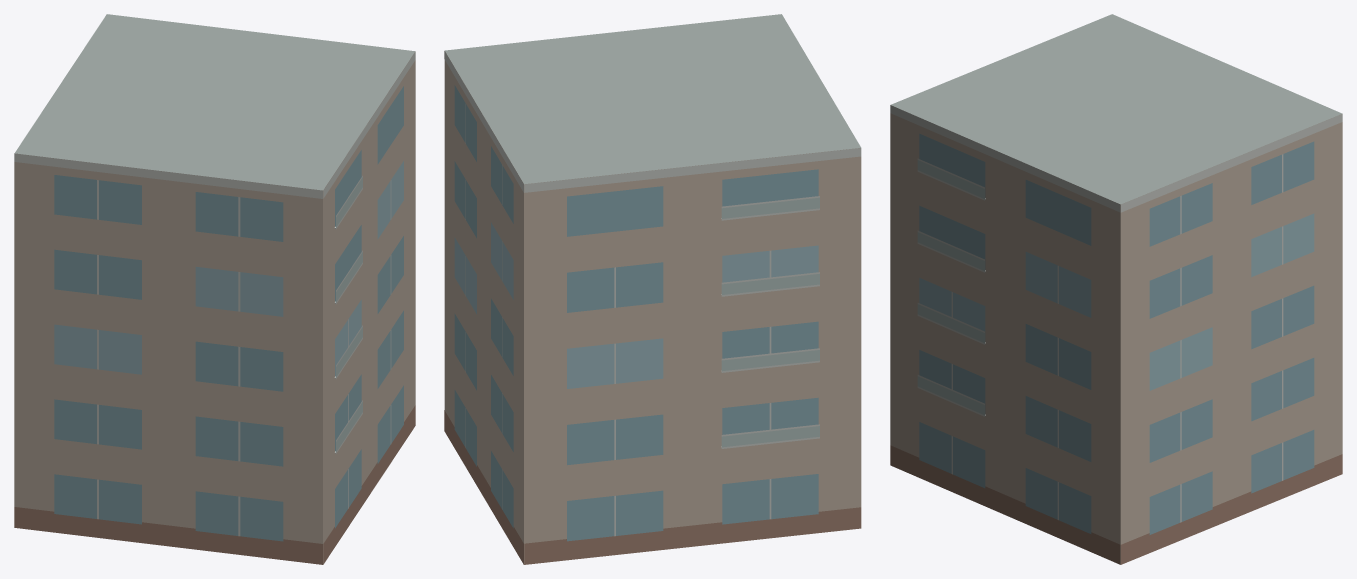
File: survey-upis-32686911.glb
3 views of the same model, side by side, from view 1: azimuth 30°, elevation 25°; view 2: azimuth 150°, elevation 25°; view 3: azimuth 270°, elevation 25° (orthographic). The views are drawn at different scales.
Parts seen in each view (by area): view 1: survey-upis-32686911.tmp; view 2: survey-upis-32686911.tmp; view 3: survey-upis-32686911.tmp.
Boxes of the visible parts, bbox=[...] form: survey-upis-32686911.tmp: bbox=[14, 14, 415, 564]; survey-upis-32686911.tmp: bbox=[444, 14, 861, 564]; survey-upis-32686911.tmp: bbox=[890, 14, 1342, 564].
Bounding box in the file's own units: 12.14 × 10.7 × 12.18.
